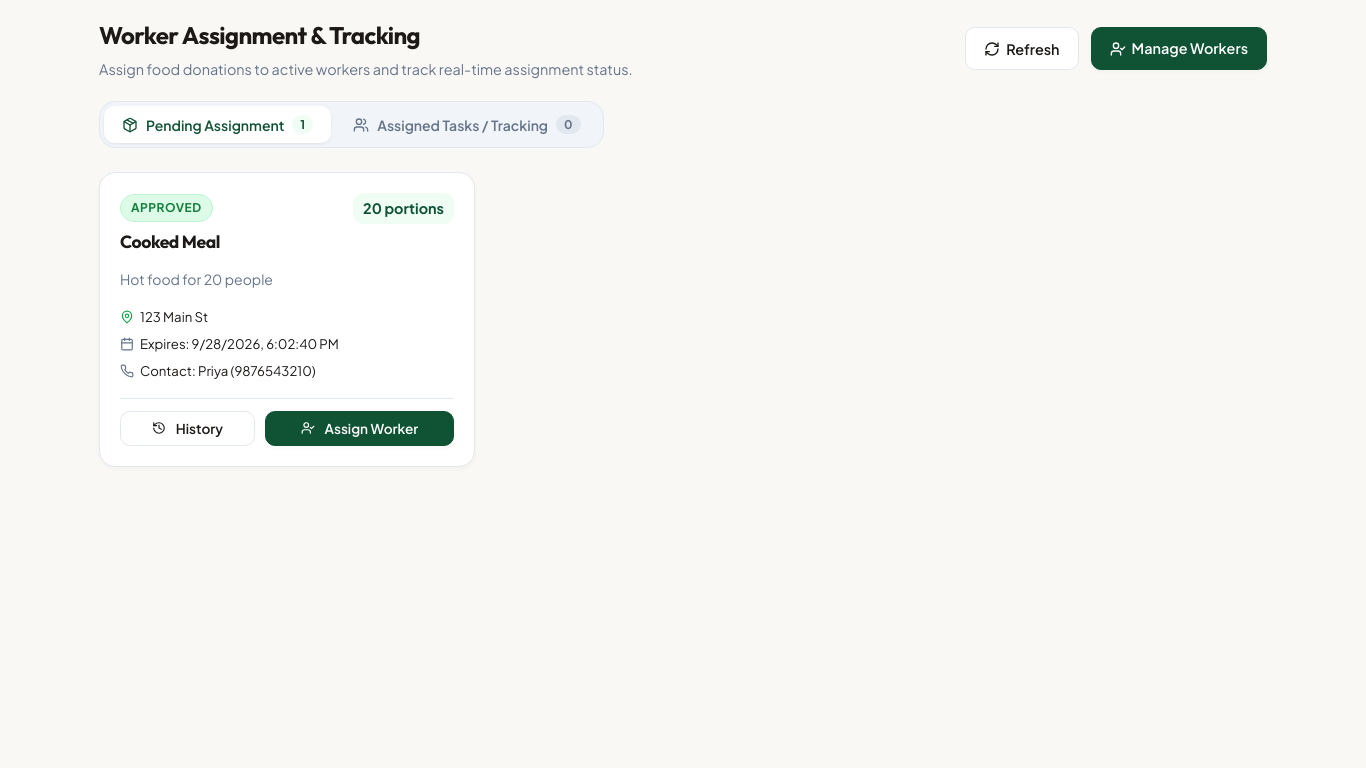
Test: Frontend Module 04 — Unit & Component Tests › AdminAssignmentQueuePage Worker Selector › submit button enables after a worker is selected
This screenshot has width=1366, height=768.
Click the button "Assign Worker": click(359, 428) top-left (265, 410), bottom-right (454, 446)
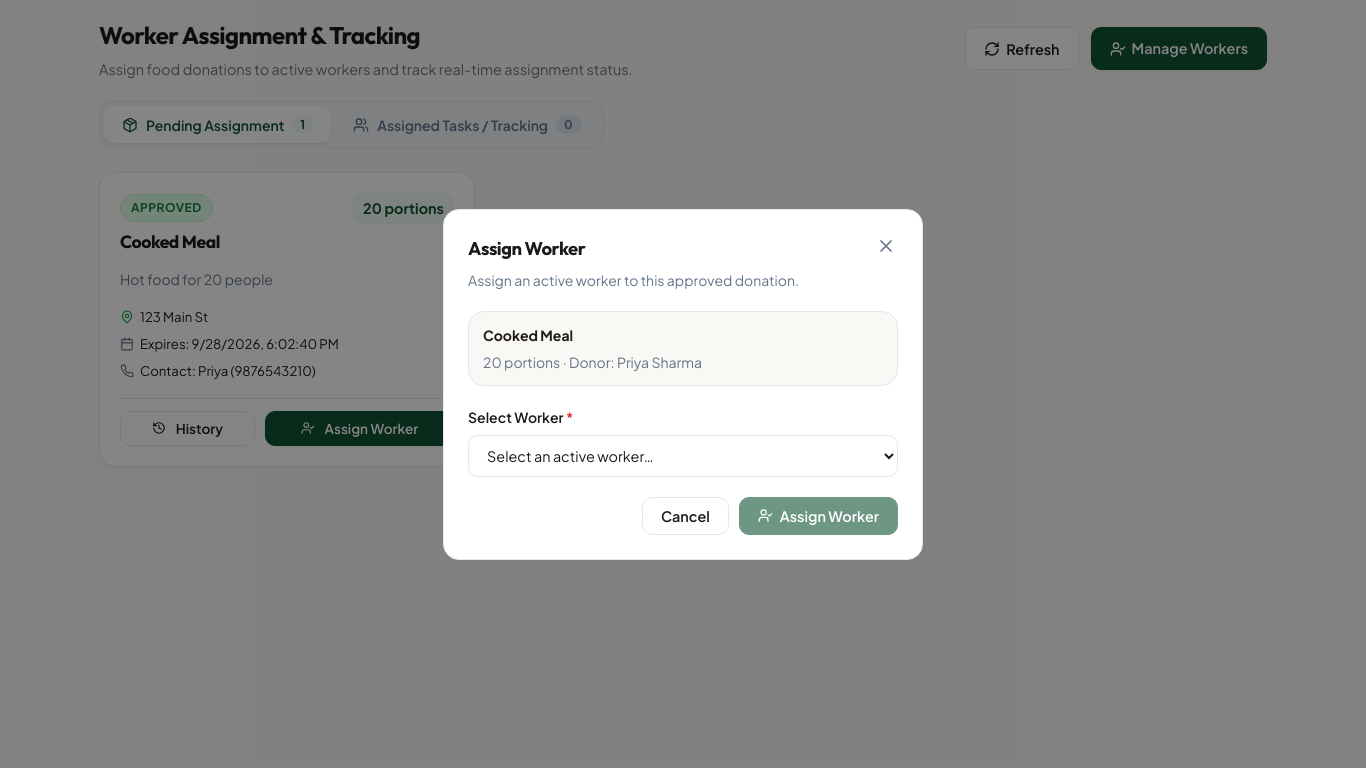
Select "Rahul Kumar — rahul.worker@example.com" in the dropdown: (683, 456) top-left (468, 434), bottom-right (898, 476)
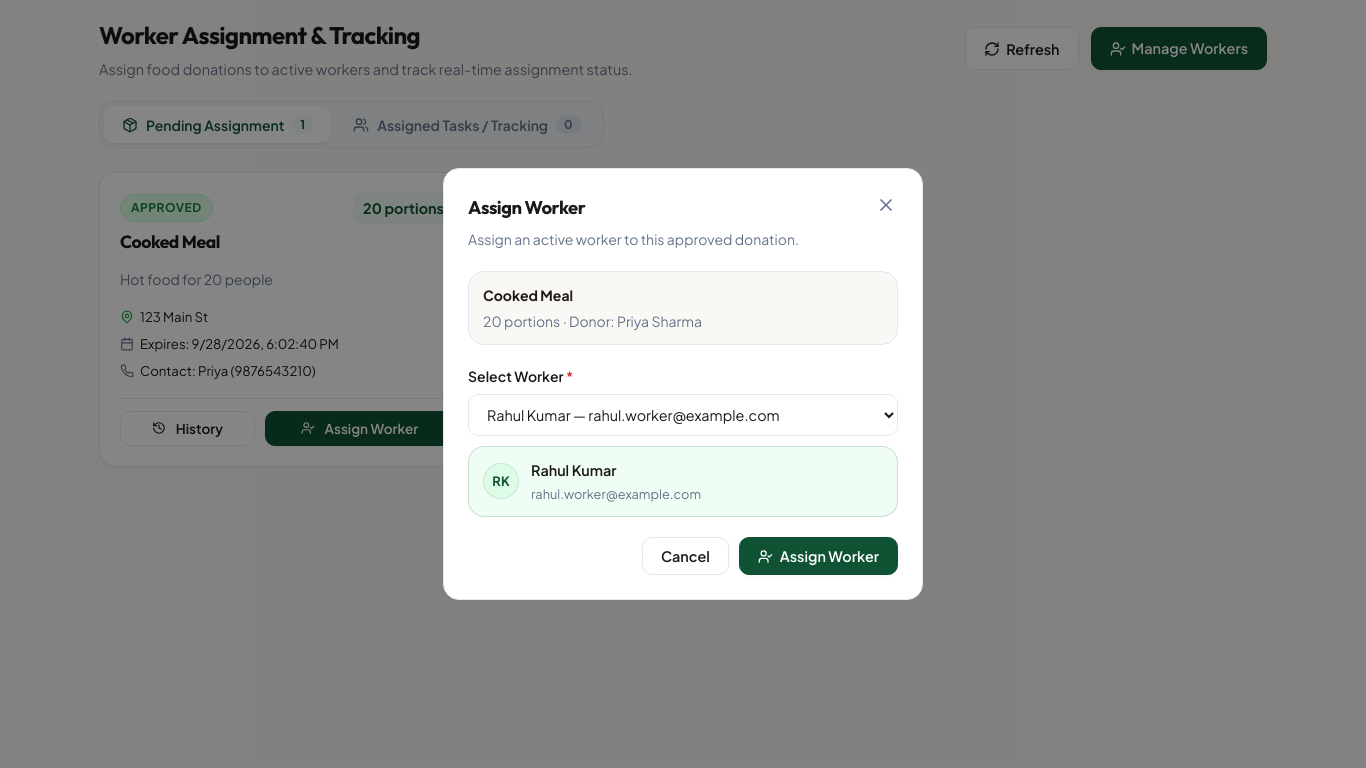
Expected: the text "rahul.worker@example.com" is shown, top-left (531, 484), bottom-right (701, 504)
Expected: the button "Assign Worker" is enabled, top-left (739, 537), bottom-right (898, 575)
